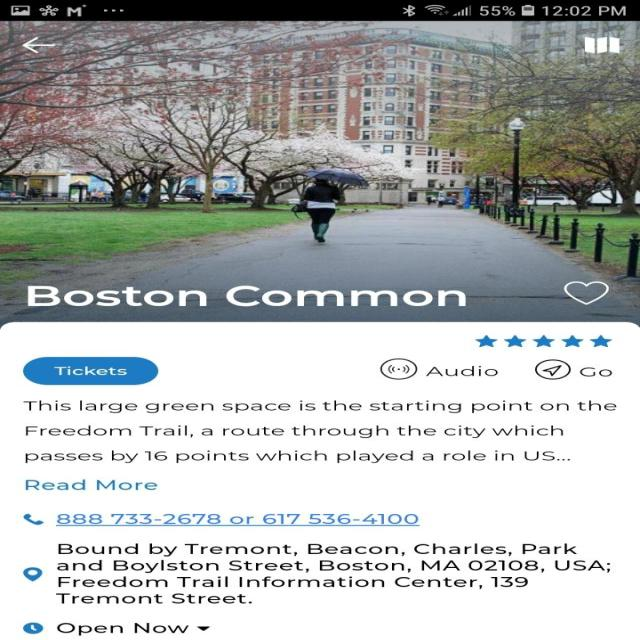Icon: (474, 334, 612, 347), (563, 281, 609, 304), (533, 358, 571, 379), (583, 36, 619, 54), (22, 37, 55, 53), (22, 566, 43, 581), (22, 622, 44, 634), (196, 626, 209, 630)
Image: (0, 21, 639, 322), (379, 358, 417, 379), (22, 513, 44, 526)
Text: (22, 400, 615, 463), (56, 542, 609, 604), (27, 286, 466, 306), (56, 513, 419, 526), (56, 622, 188, 636), (24, 479, 158, 490), (425, 365, 498, 376), (578, 366, 612, 376)
TextButton: (22, 356, 158, 385)
